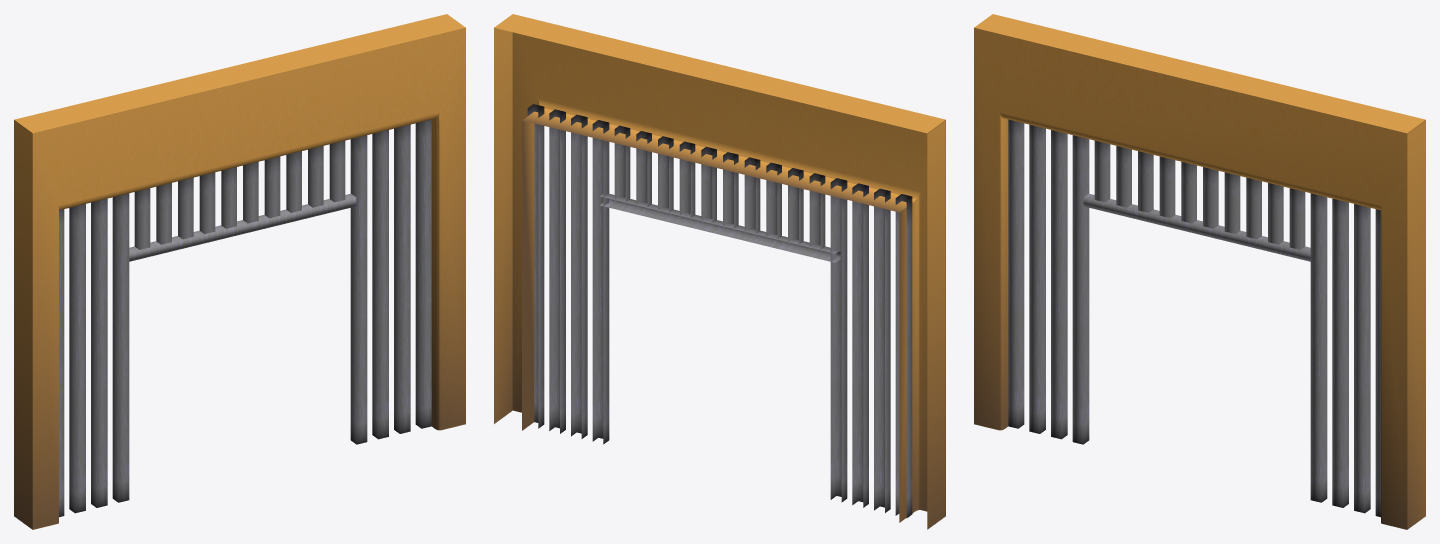
Rendered from PortalDuplo.fbx.
The picture shows the model from 3 angles, left to right: view 1: azimuth 30°, elevation 25°; view 2: azimuth 150°, elevation 25°; view 3: azimuth 330°, elevation 25°; orthographic projection.
Parts seen in each view (by area): view 1: ParedePortaDupla, GradePortaDupla; view 2: ParedePortaDupla, GradePortaDupla; view 3: ParedePortaDupla, GradePortaDupla.
Part boxes in pixels (x1,y1,x2,y2): ParedePortaDupla: [14, 14, 465, 529]; GradePortaDupla: [59, 119, 431, 517]; ParedePortaDupla: [494, 14, 945, 529]; GradePortaDupla: [527, 104, 912, 517]; ParedePortaDupla: [974, 14, 1425, 529]; GradePortaDupla: [1008, 119, 1380, 517].
Bounding box in the file's own units: 400 × 350 × 30.
